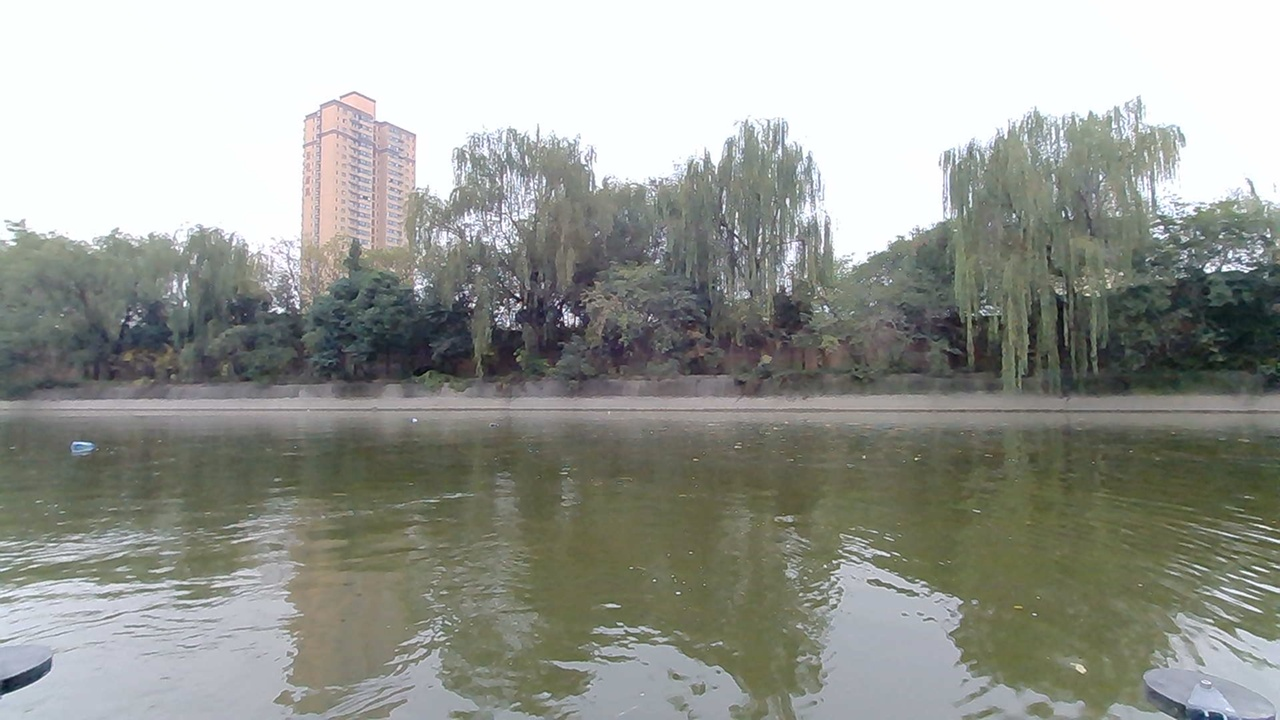bottle: (58, 428, 113, 461)
